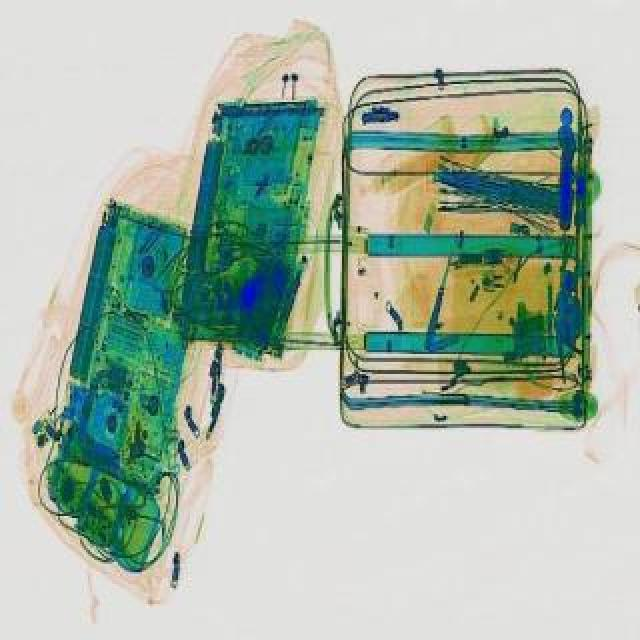knife: (422, 246, 456, 346)
